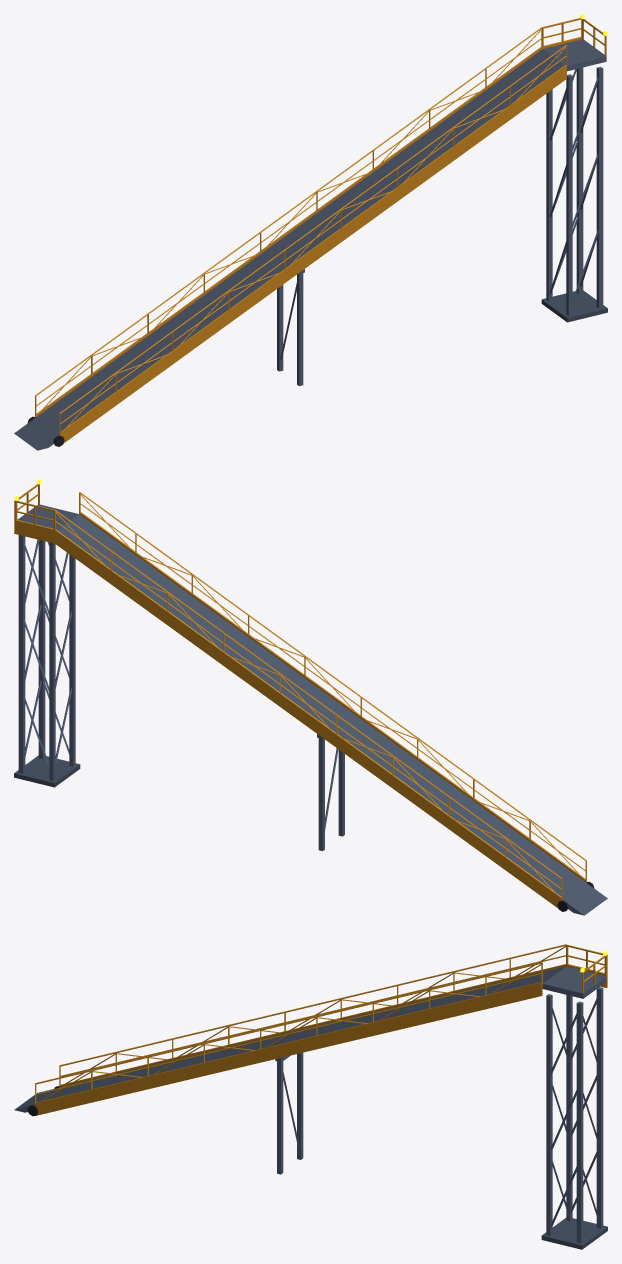
The model's file is port_gangway.glb.
The picture shows the model from 3 angles, top to bottom: view 1: azimuth 30°, elevation 25°; view 2: azimuth 150°, elevation 25°; view 3: azimuth 330°, elevation 25°; orthographic projection.
Visible parts, largest first — view 1: frame, railing, tower_foot; view 2: frame, railing, tower_foot; view 3: frame, railing, tower_foot.
Part boxes in pixels (box(x1,y1,x2,y2)): frame: box(14, 39, 606, 450); railing: box(35, 18, 606, 443); tower_foot: box(541, 290, 607, 322); frame: box(17, 504, 607, 915); railing: box(14, 484, 586, 908); tower_foot: box(14, 755, 80, 787); frame: box(14, 966, 606, 1243); railing: box(35, 944, 607, 1115); tower_foot: box(541, 1218, 607, 1249).
Size of the model in its own units: 28 by 13.15 by 2.3.
